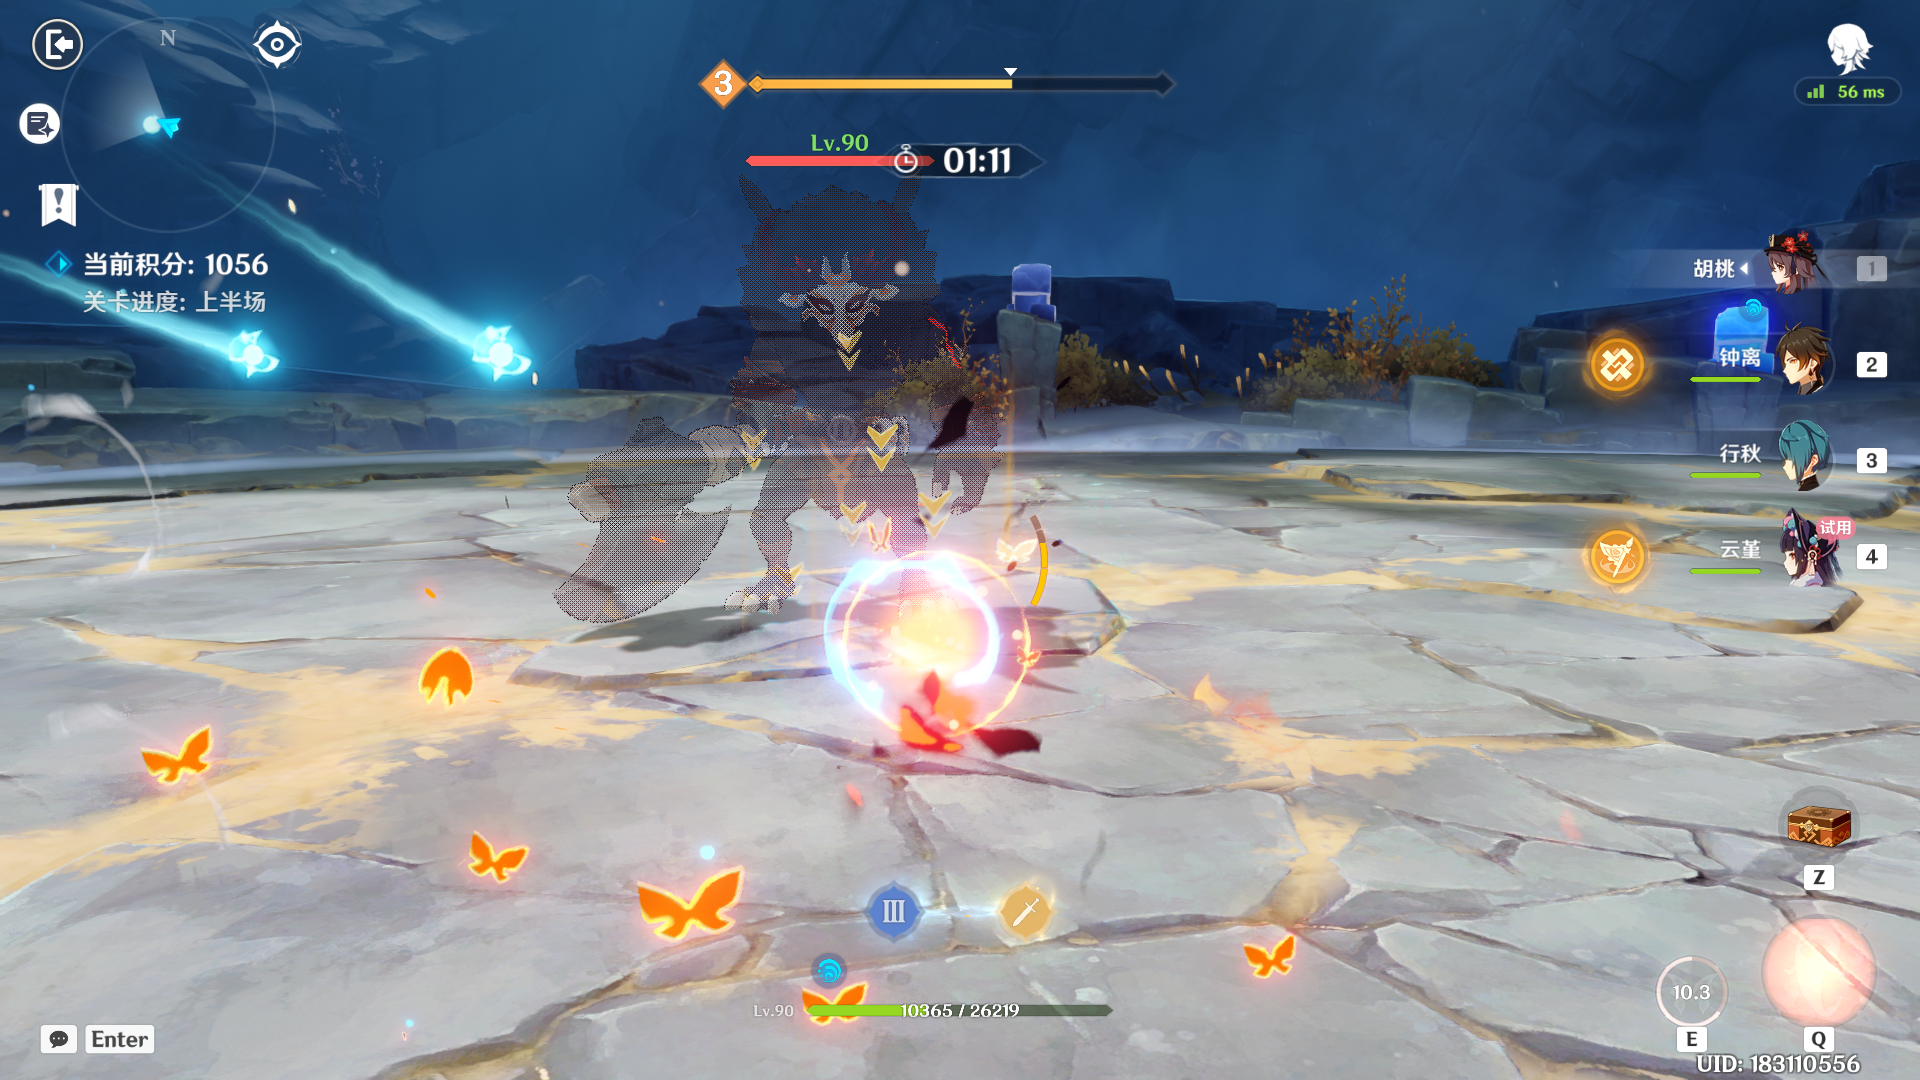bighili: (533, 170, 1015, 680)
